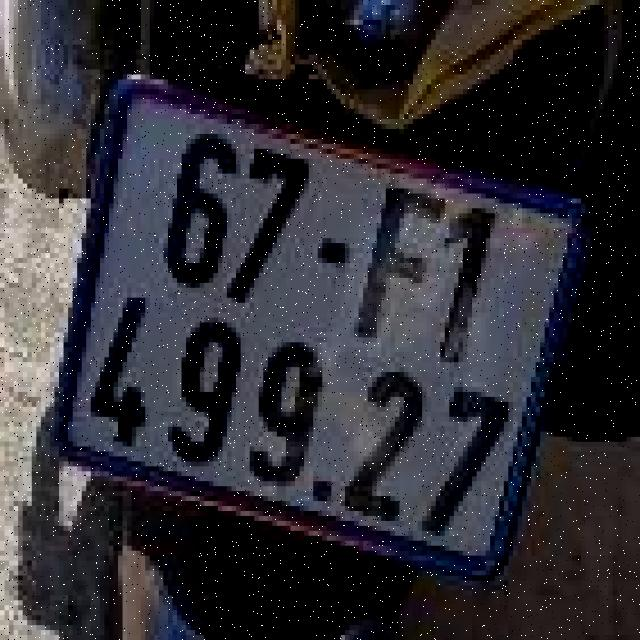1: (418, 197, 511, 369)
2: (331, 356, 443, 528)
4: (77, 283, 185, 457)
6: (153, 117, 252, 298)
7: (219, 131, 328, 321), (410, 372, 519, 549)
9: (156, 307, 258, 478), (239, 328, 339, 501)
F: (347, 168, 461, 356)
